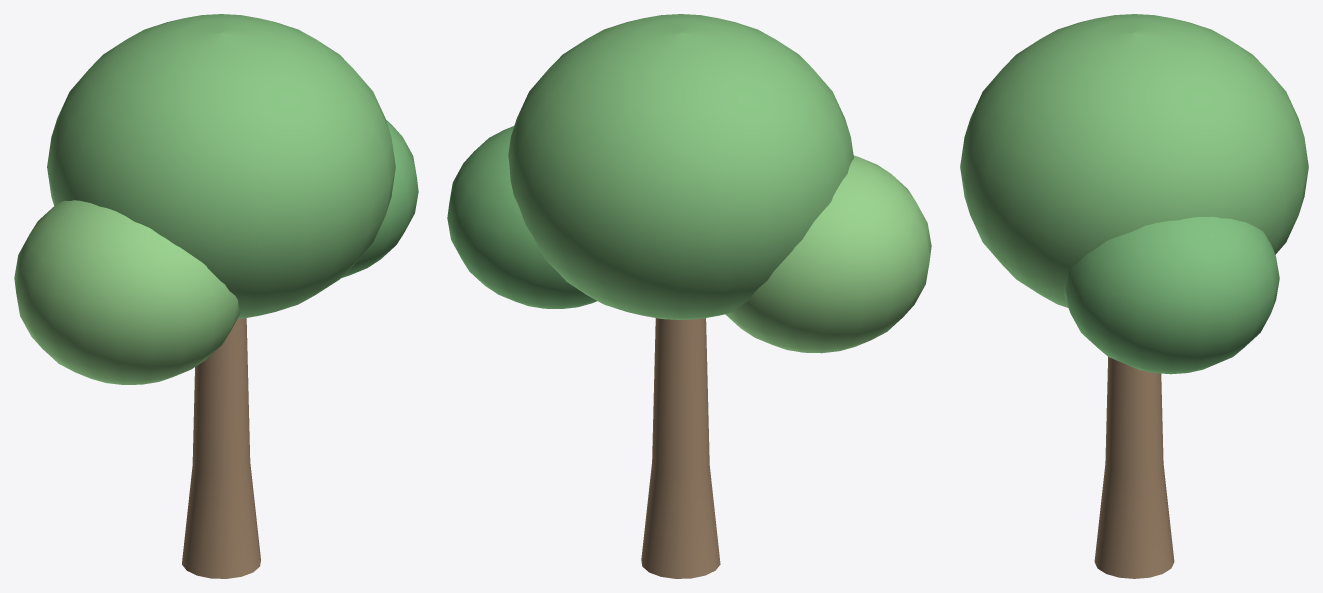
File: round-tree.glb
3 views of the same model, side by side, from view 1: azimuth 30°, elevation 25°; view 2: azimuth 150°, elevation 25°; view 3: azimuth 270°, elevation 25° (orthographic).
Visible parts, largest first — view 1: Crown, Crown left, Trunk, Crown right; view 2: Crown, Crown left, Trunk, Crown right; view 3: Crown, Crown right, Trunk.
Part boxes in pixels (x1,y1,x2,y2): Crown: (47, 14, 395, 319); Crown left: (14, 200, 240, 384); Trunk: (182, 318, 260, 578); Crown right: (341, 120, 418, 278); Crown: (508, 14, 853, 319); Crown left: (725, 155, 931, 353); Trunk: (641, 318, 720, 578); Crown right: (447, 126, 597, 308); Crown: (960, 14, 1308, 307); Crown right: (1064, 216, 1279, 374); Trunk: (1094, 357, 1174, 578).
Size of the model in its own units: 6.6 by 8.04 by 4.8.
